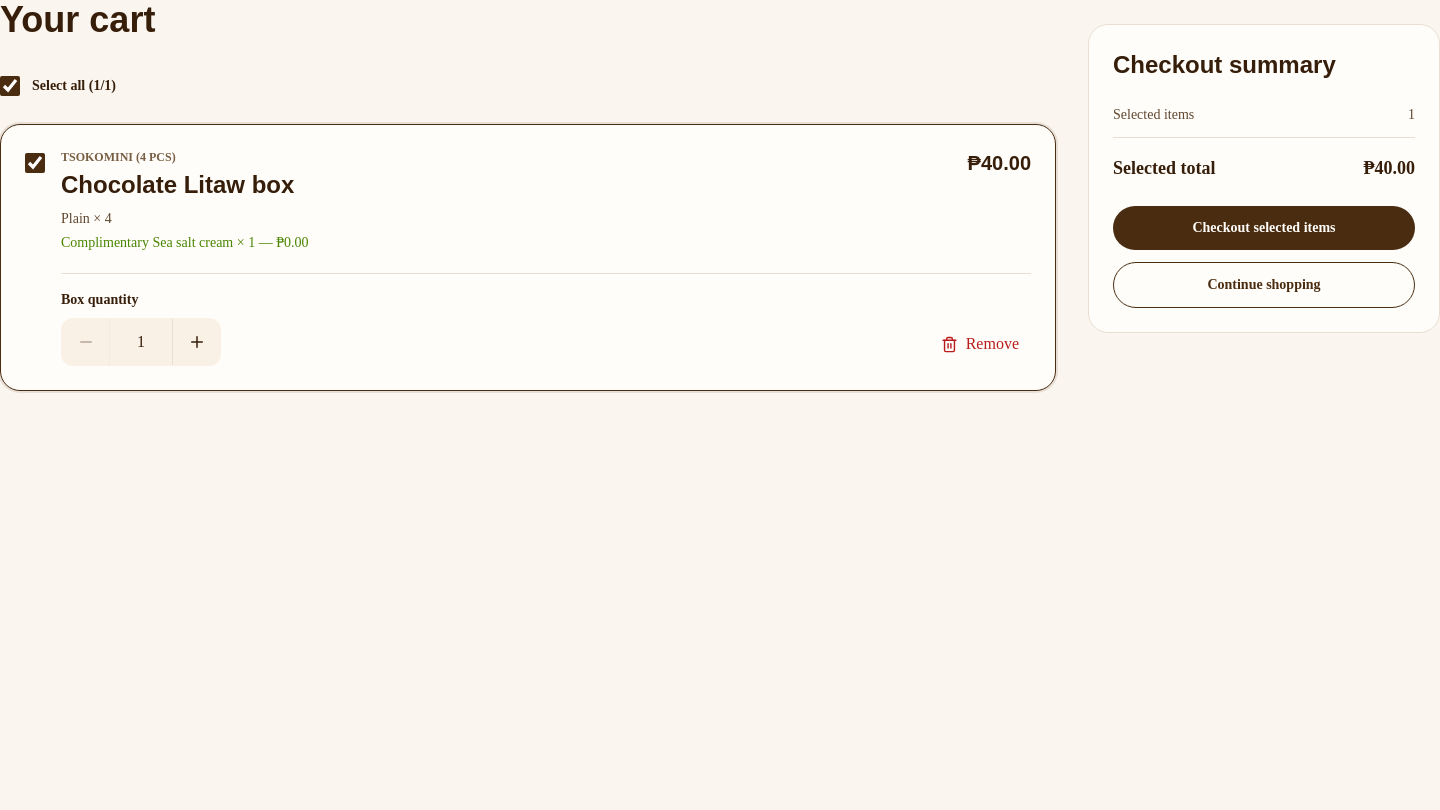
it: CartPageContent › keeps the box until removal is confirmed
Click the button with aria-label "Remove TsokoMini (4 pcs) from cart". click: [980, 344]
box: [929,322,1031,366]
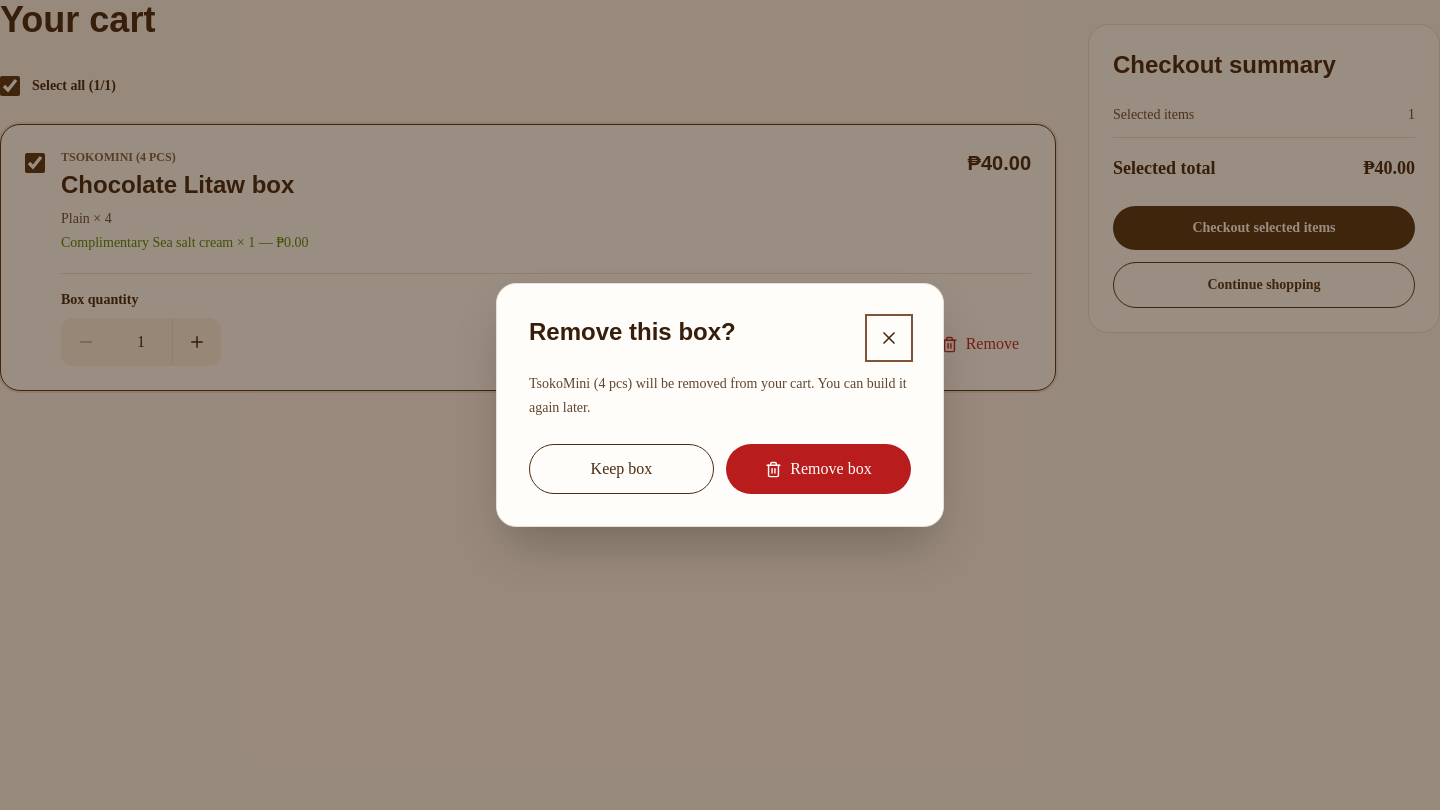
Check: the dialog "Remove this box?" is shown, box [496,283,944,527]
Click the button "Keep box". click: [622, 469]
box: [529,444,714,494]
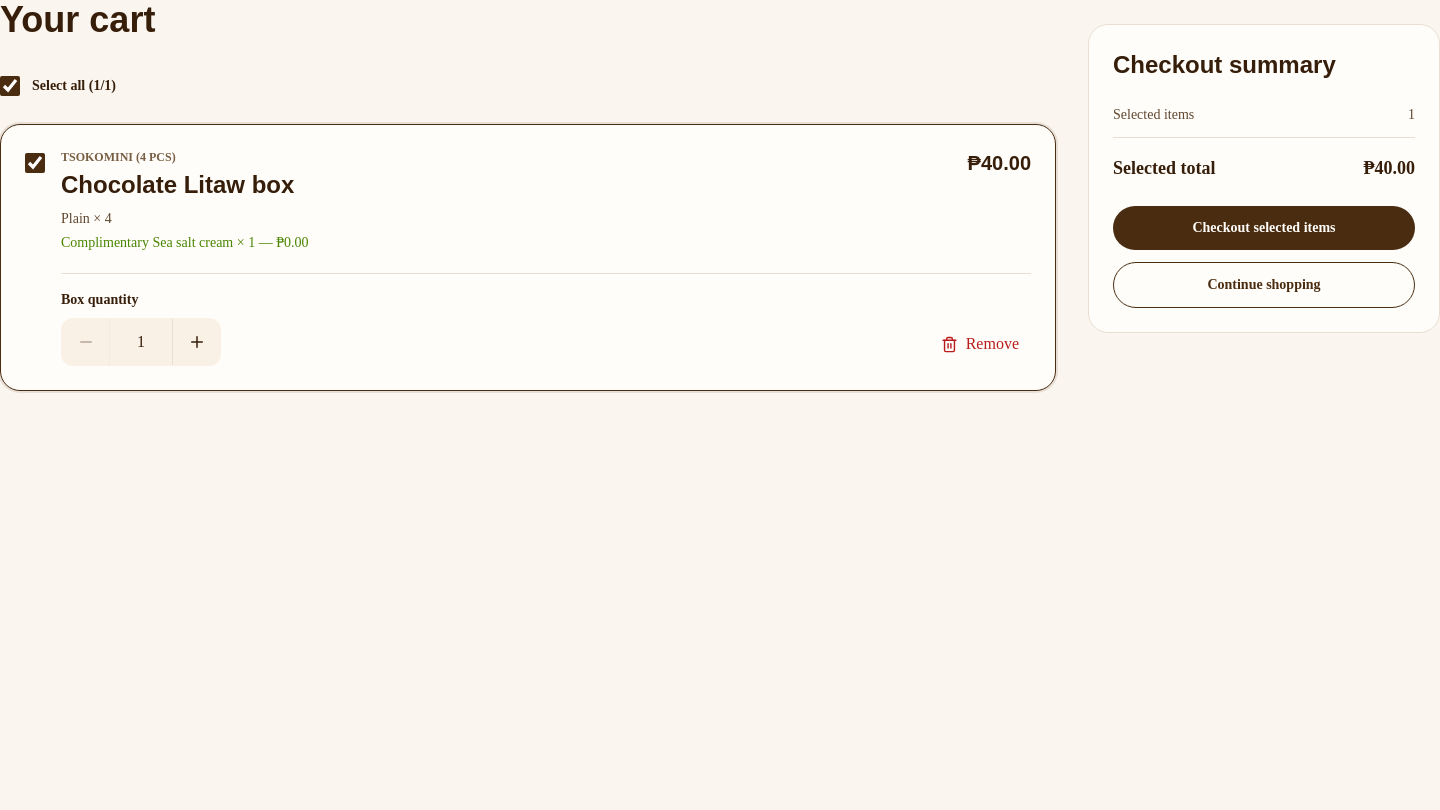
Check: the dialog is gone
Click the button with aria-label "Remove TsokoMini (4 pcs) from cart". click: [980, 344]
box: [929,322,1031,366]
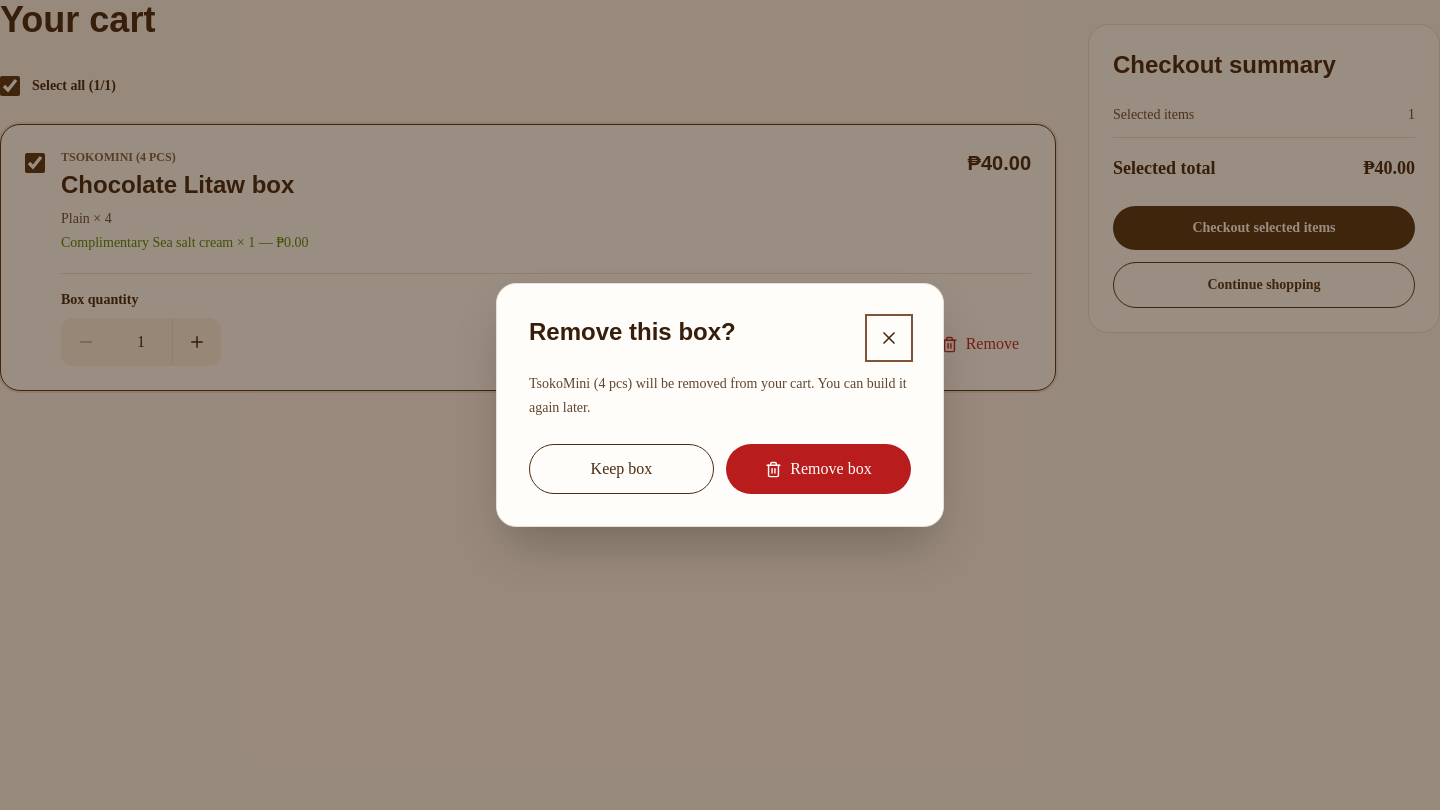
Press Escape
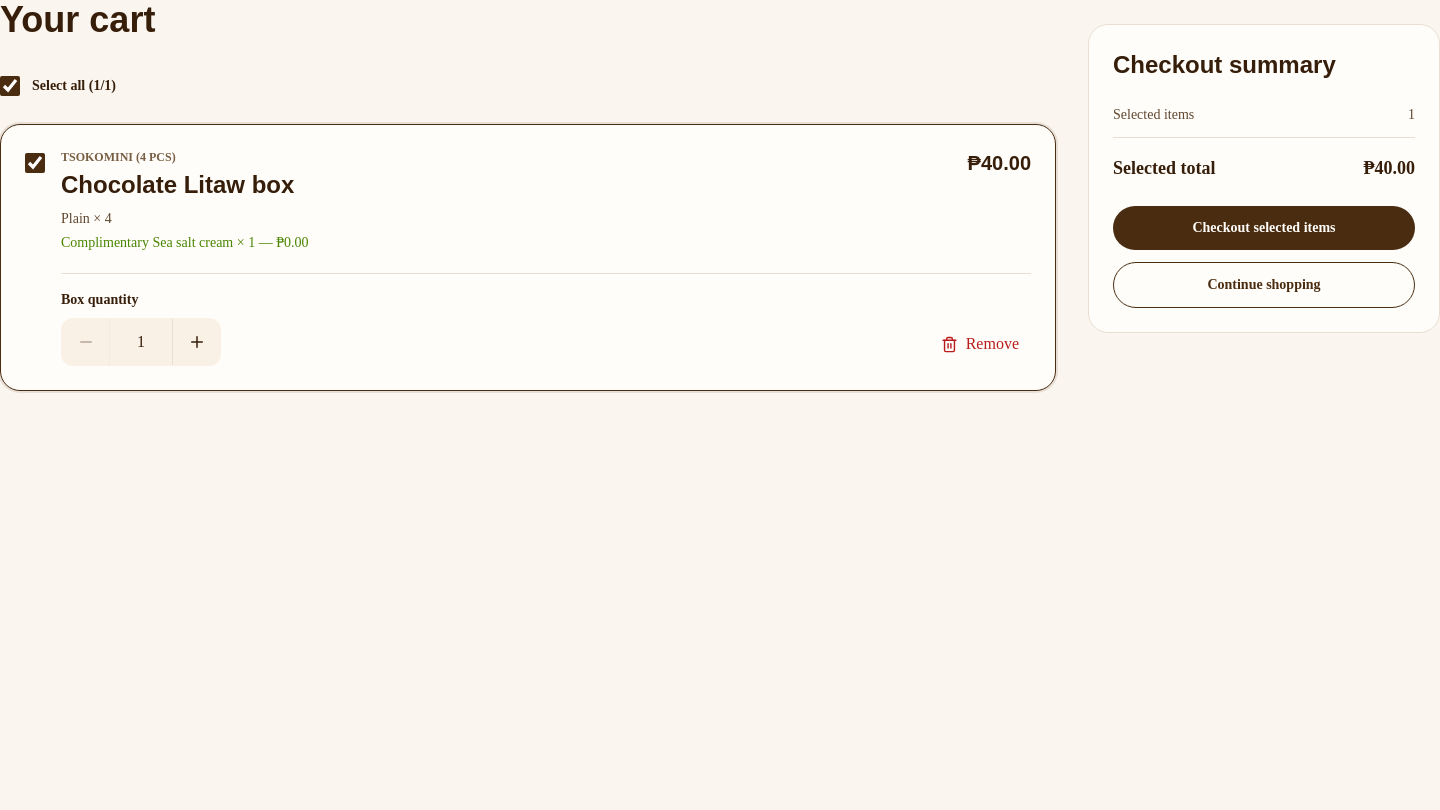
Check: the dialog is gone
Click the button with aria-label "Remove TsokoMini (4 pcs) from cart". click: [980, 344]
box: [929,322,1031,366]
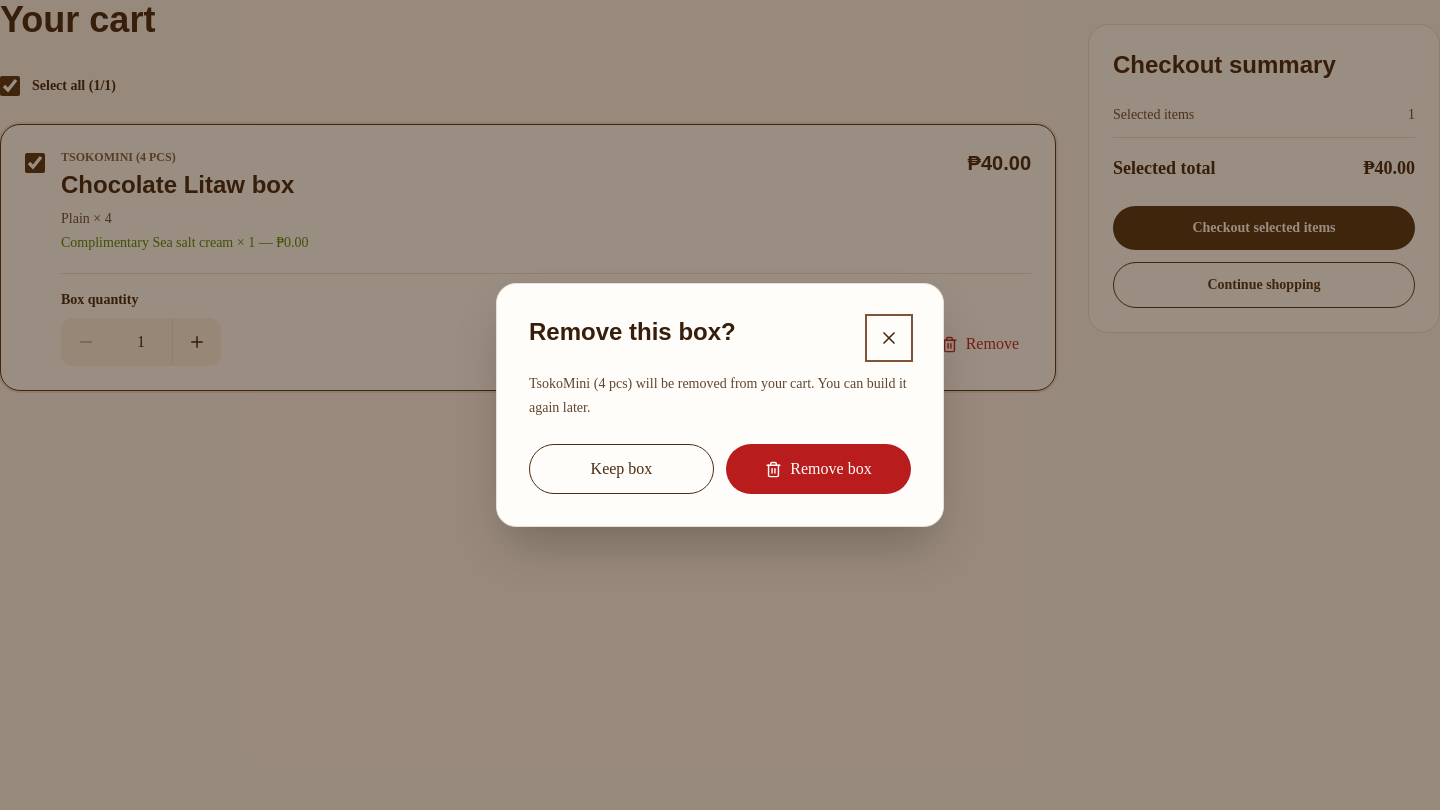
Click the button "Remove box". click: [818, 469]
box: [726,444,911,494]
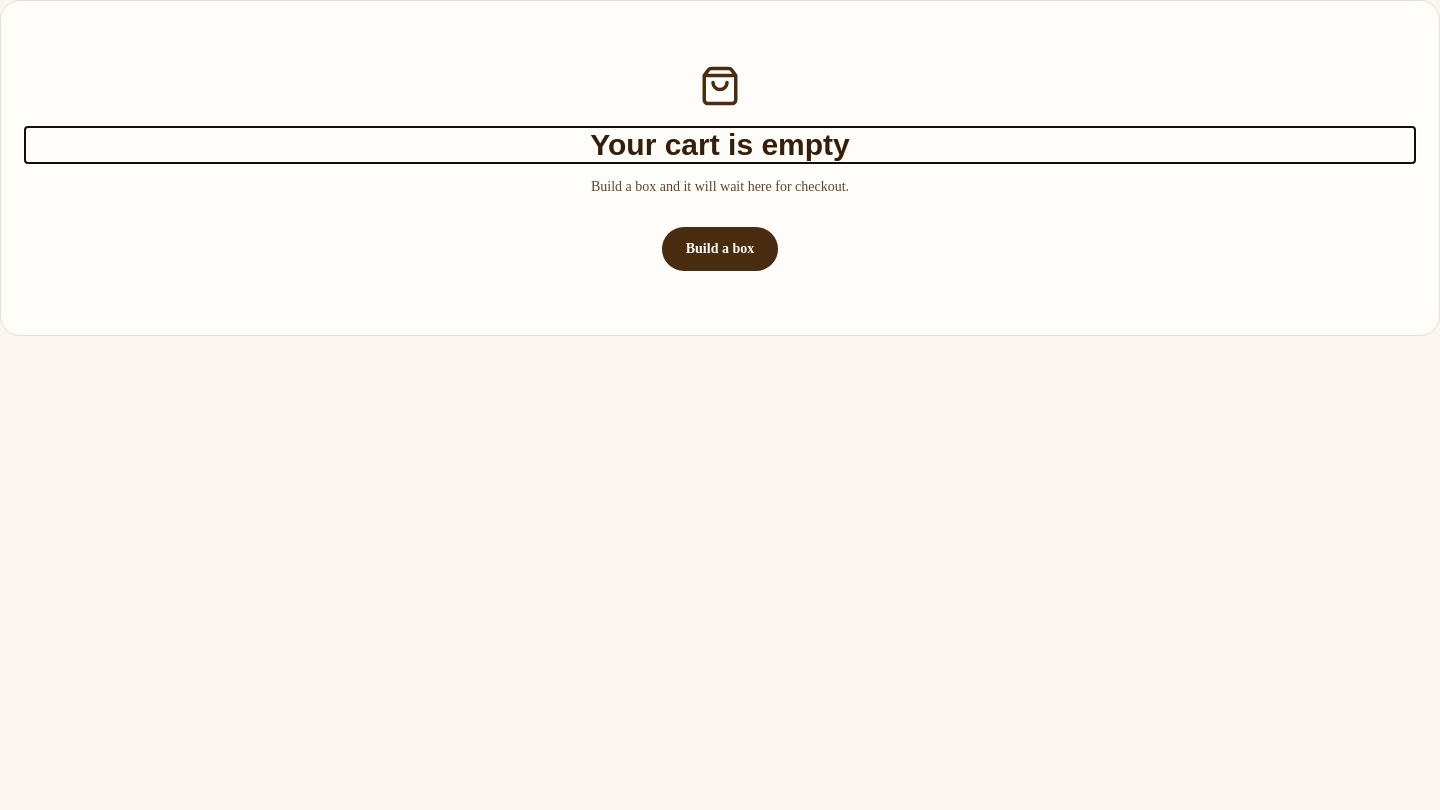
Check: the heading "Your cart is empty" is shown, box [590,128,850,161]
